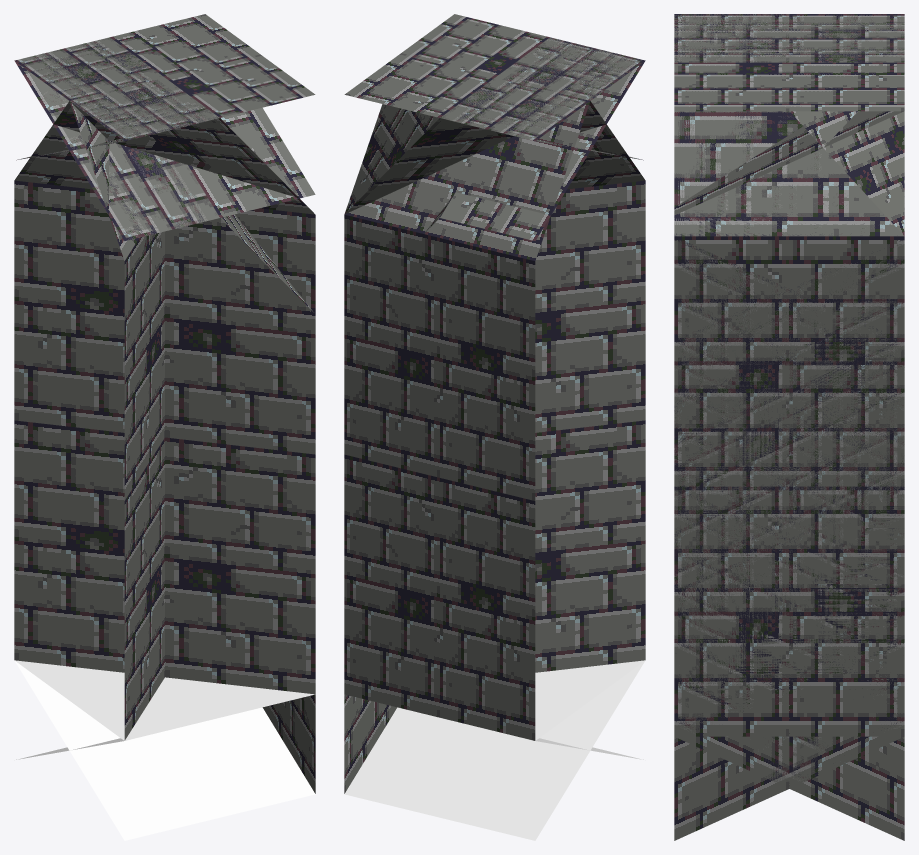
The model's file is wall-tileset.glb.
3 renders of one model, left to right at view 1: azimuth 30°, elevation 25°; view 2: azimuth 150°, elevation 25°; view 3: azimuth 270°, elevation 25°, orthographic. The views are drawn at different scales.
Visible parts, largest first — view 1: diagonal_2-col, wall_inclinada-col, diagonal_1-col, ground-col, wall-col, ground_inclinado-col, out_corner-col, corner-col; view 2: corner-col, diagonal_1-col, wall_inclinada_inv-col, ground-col, wall-col, out_corner-col, diagonal_2-col; view 3: wall-col, wall_inclinada-col, wall_inclinada_inv-col, ground-col, out_corner-col, corner-col, ground_inclinado-col, diagonal_2-col.
Part boxes in pixels (left/top/right/bottom): diagonal_2-col: left=14, top=101, right=315, bottom=740; wall_inclinada-col: left=14, top=61, right=315, bottom=840; diagonal_1-col: left=21, top=43, right=164, bottom=740; ground-col: left=15, top=14, right=315, bottom=140; wall-col: left=15, top=37, right=313, bottom=712; ground_inclinado-col: left=22, top=66, right=315, bottom=240; out_corner-col: left=16, top=38, right=314, bottom=139; corner-col: left=32, top=78, right=294, bottom=716; corner-col: left=344, top=38, right=643, bottom=740; diagonal_1-col: left=345, top=101, right=645, bottom=672; wall_inclinada_inv-col: left=344, top=61, right=645, bottom=840; ground-col: left=344, top=14, right=644, bottom=140; wall-col: left=440, top=37, right=644, bottom=704; out_corner-col: left=344, top=14, right=641, bottom=214; diagonal_2-col: left=535, top=37, right=644, bottom=740; wall-col: left=674, top=14, right=904, bottom=736; wall_inclinada-col: left=674, top=237, right=904, bottom=840; wall_inclinada_inv-col: left=674, top=237, right=904, bottom=840; ground-col: left=674, top=14, right=904, bottom=111; out_corner-col: left=674, top=14, right=904, bottom=235; corner-col: left=674, top=14, right=890, bottom=236; ground_inclinado-col: left=674, top=111, right=903, bottom=215; diagonal_2-col: left=674, top=14, right=782, bottom=61.
Bounding box in the file's own units: 1 × 3.5 × 1.
Materials: 2 (1 with a texture image).
